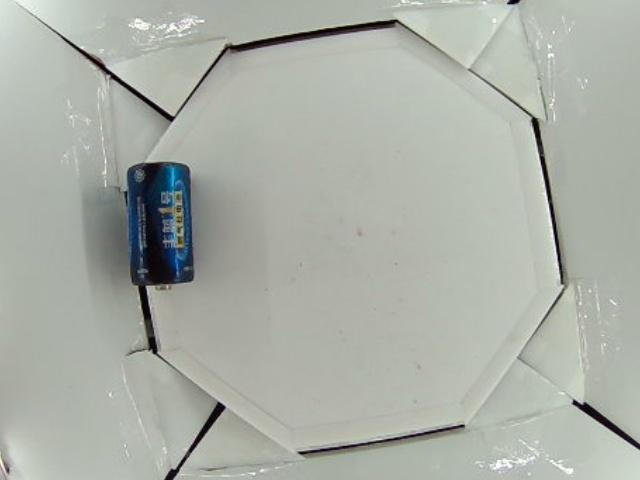Battery: (129, 161, 192, 294)
